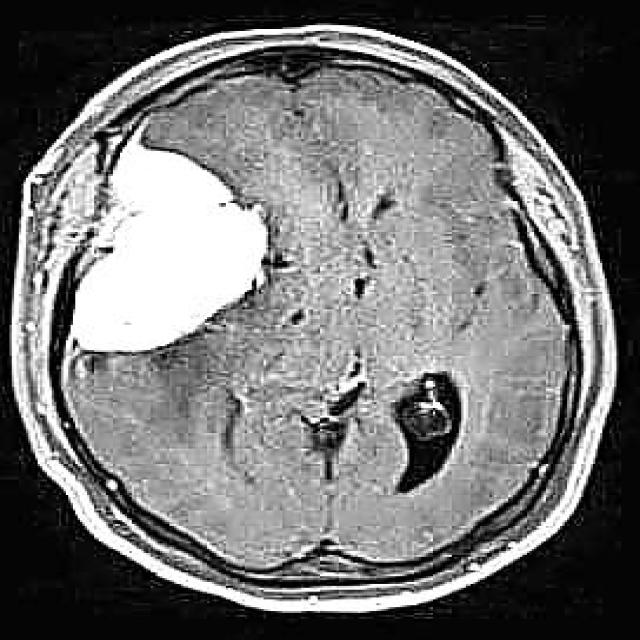Tumor-Cell: (78, 134, 266, 376)
